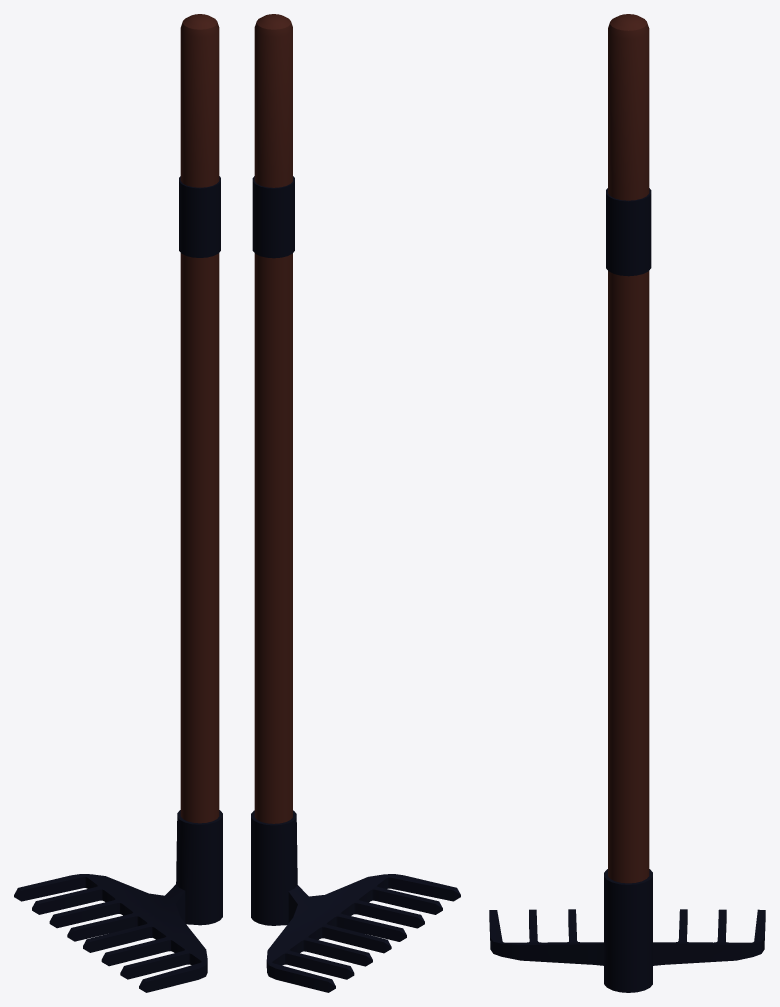
Rendered from mesh_rateau.fbx.
3 renders of one model, left to right at view 1: azimuth 30°, elevation 25°; view 2: azimuth 150°, elevation 25°; view 3: azimuth 270°, elevation 25°, orthographic. The views are drawn at different scales.
Visible parts, largest first — view 1: Pelle; view 2: Pelle; view 3: Pelle.
Part boxes in pixels (<box>): Pelle: <box>14,14,222,992</box>; Pelle: <box>251,14,460,992</box>; Pelle: <box>489,14,765,992</box>.
Size of the model in its own units: 2.67 by 15.81 by 4.09.
